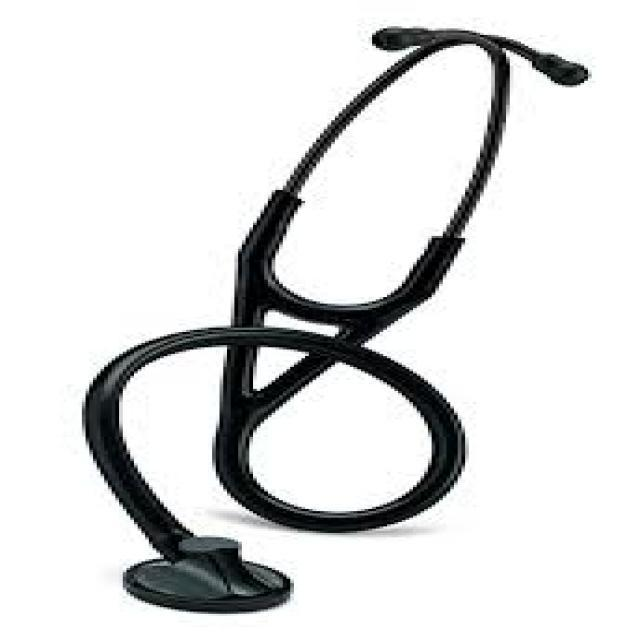stethoscope: (73, 10, 588, 590)
